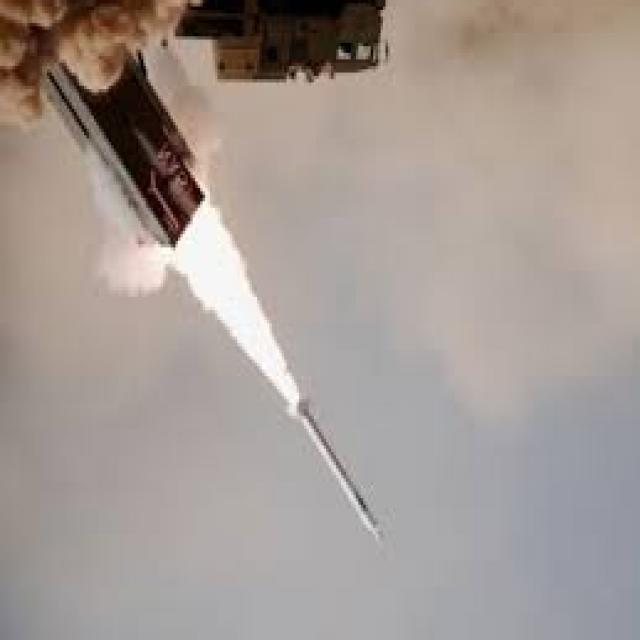missile: (282, 392, 384, 538)
